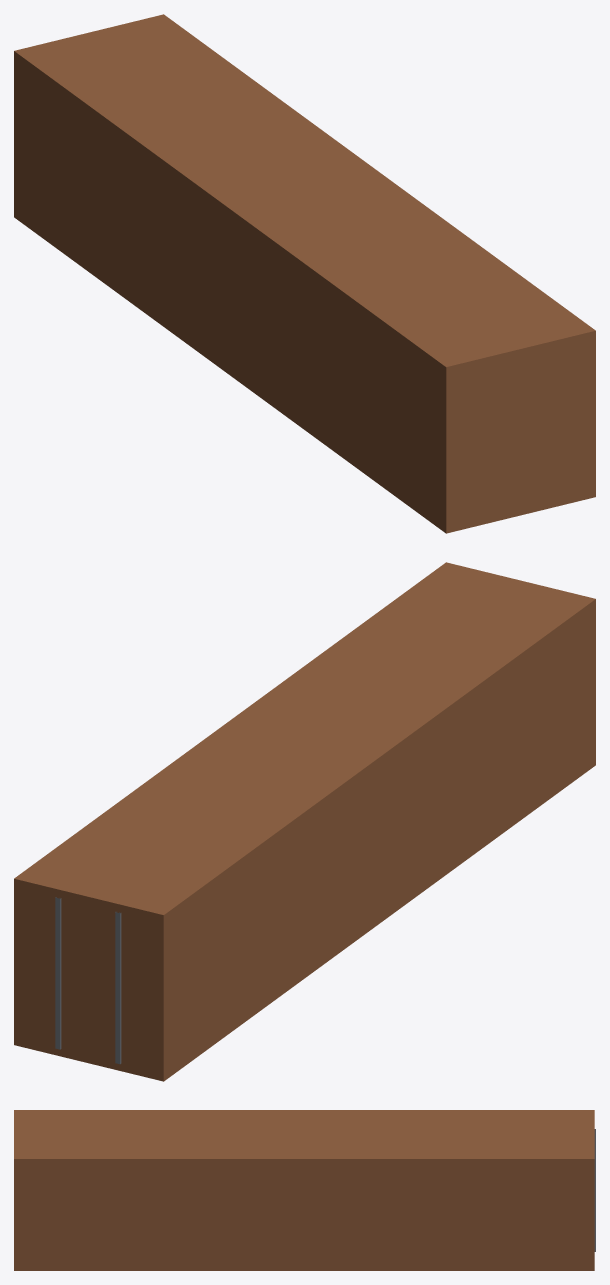
3 views of the same model, one above another, from view 1: azimuth 30°, elevation 25°; view 2: azimuth 150°, elevation 25°; view 3: azimuth 270°, elevation 25° (orthographic). The views are drawn at different scales.
Visible parts, largest first — view 1: 418; view 2: 418; view 3: 418.
Boxes of the visible parts, bbox=[...] form: 418: bbox=[14, 14, 595, 533]; 418: bbox=[14, 562, 595, 1081]; 418: bbox=[14, 1110, 595, 1270].
Size of the model in its own units: 2.44 by 2.59 by 12.22.
